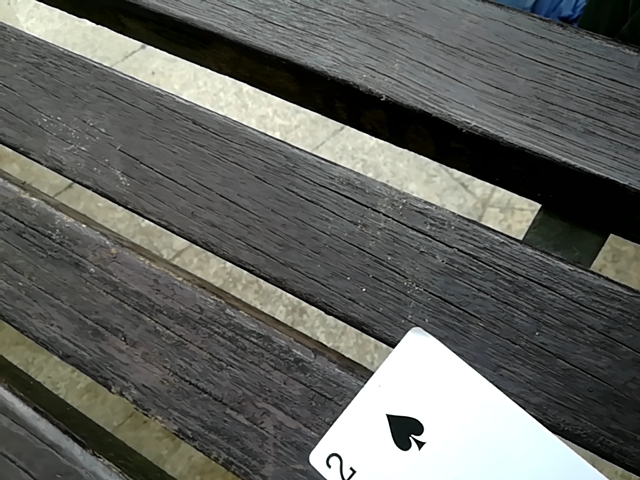ht 2: (291, 329, 635, 479)
